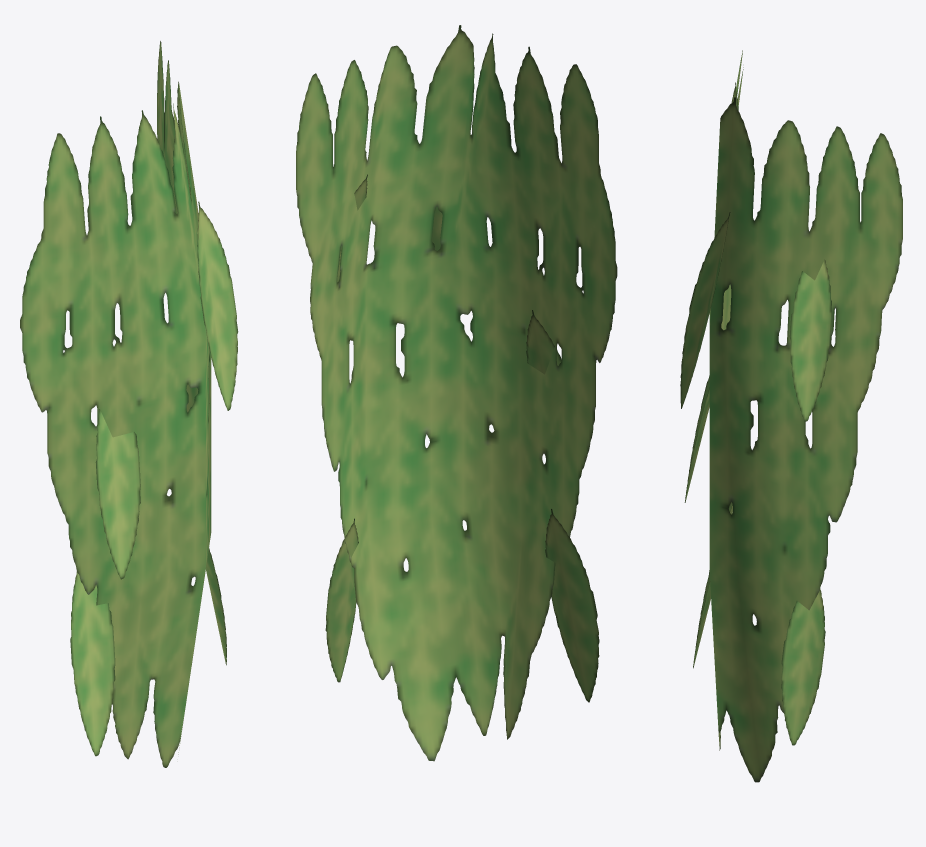
Rendered from LeafSetA_22.fbx.
3 views of the same model, side by side, from view 1: azimuth 30°, elevation 25°; view 2: azimuth 150°, elevation 25°; view 3: azimuth 270°, elevation 25° (orthographic). The views are drawn at different scales.
Visible parts, largest first — view 1: LeafSetA_22; view 2: LeafSetA_22; view 3: LeafSetA_22.
Part boxes in pixels (x1,y1,x2,y2): LeafSetA_22: [20, 41, 238, 767]; LeafSetA_22: [296, 25, 617, 761]; LeafSetA_22: [680, 50, 902, 782].
Size of the model in its own units: 0.3415 by 0.8805 by 0.287.
